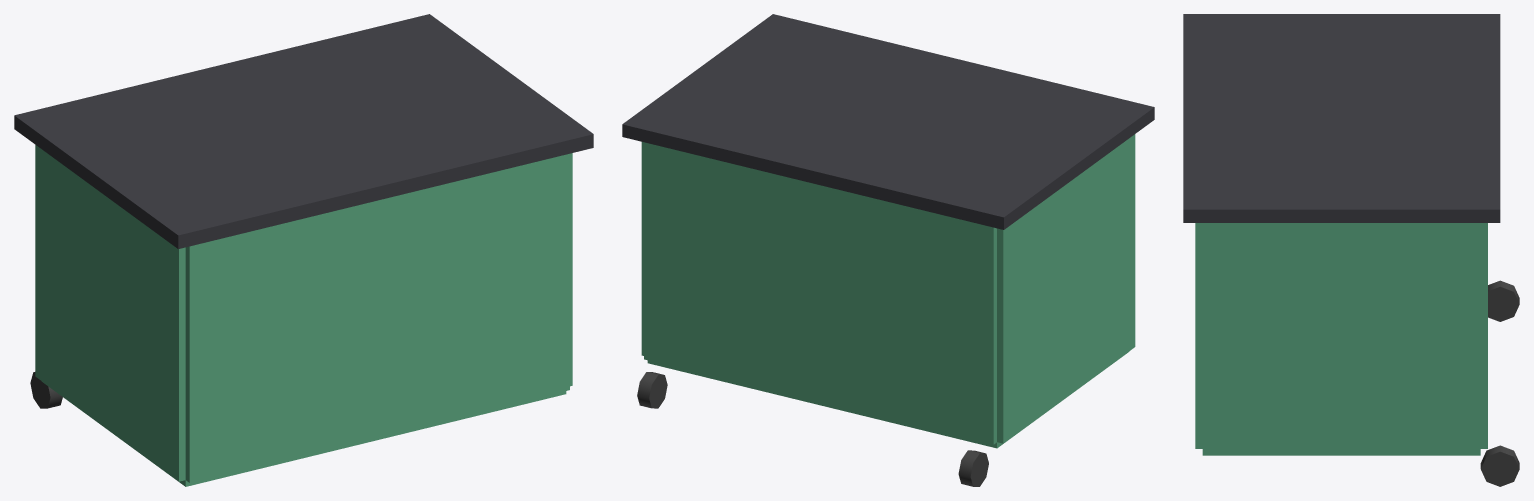
Rendered from dumpster.glb.
The picture shows the model from 3 angles, left to right: view 1: azimuth 30°, elevation 25°; view 2: azimuth 150°, elevation 25°; view 3: azimuth 270°, elevation 25°; orthographic projection. The views are drawn at different scales.
Visible parts, largest first — view 1: dumpster; view 2: dumpster; view 3: dumpster.
Part boxes in pixels (<box>): dumpster: <box>14,14,593,486</box>; dumpster: <box>622,14,1154,486</box>; dumpster: <box>1183,14,1519,486</box>.
Bounding box in the file's own units: 1.9 × 1.31 × 1.38.
